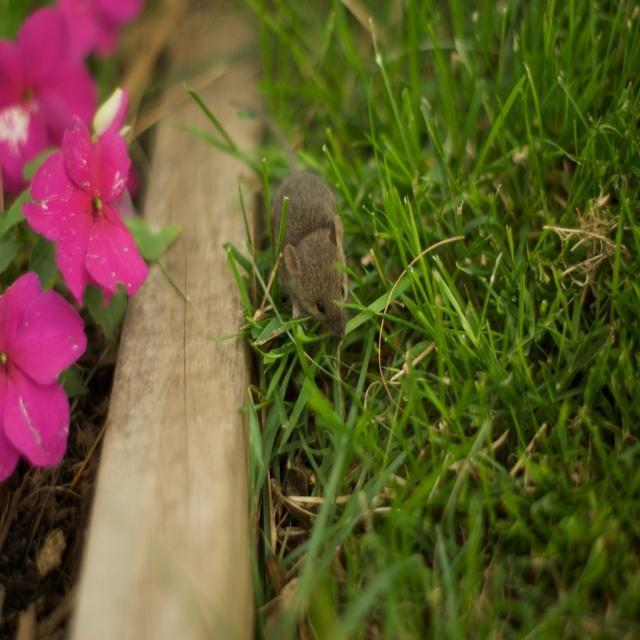rat: (230, 98, 346, 269)
